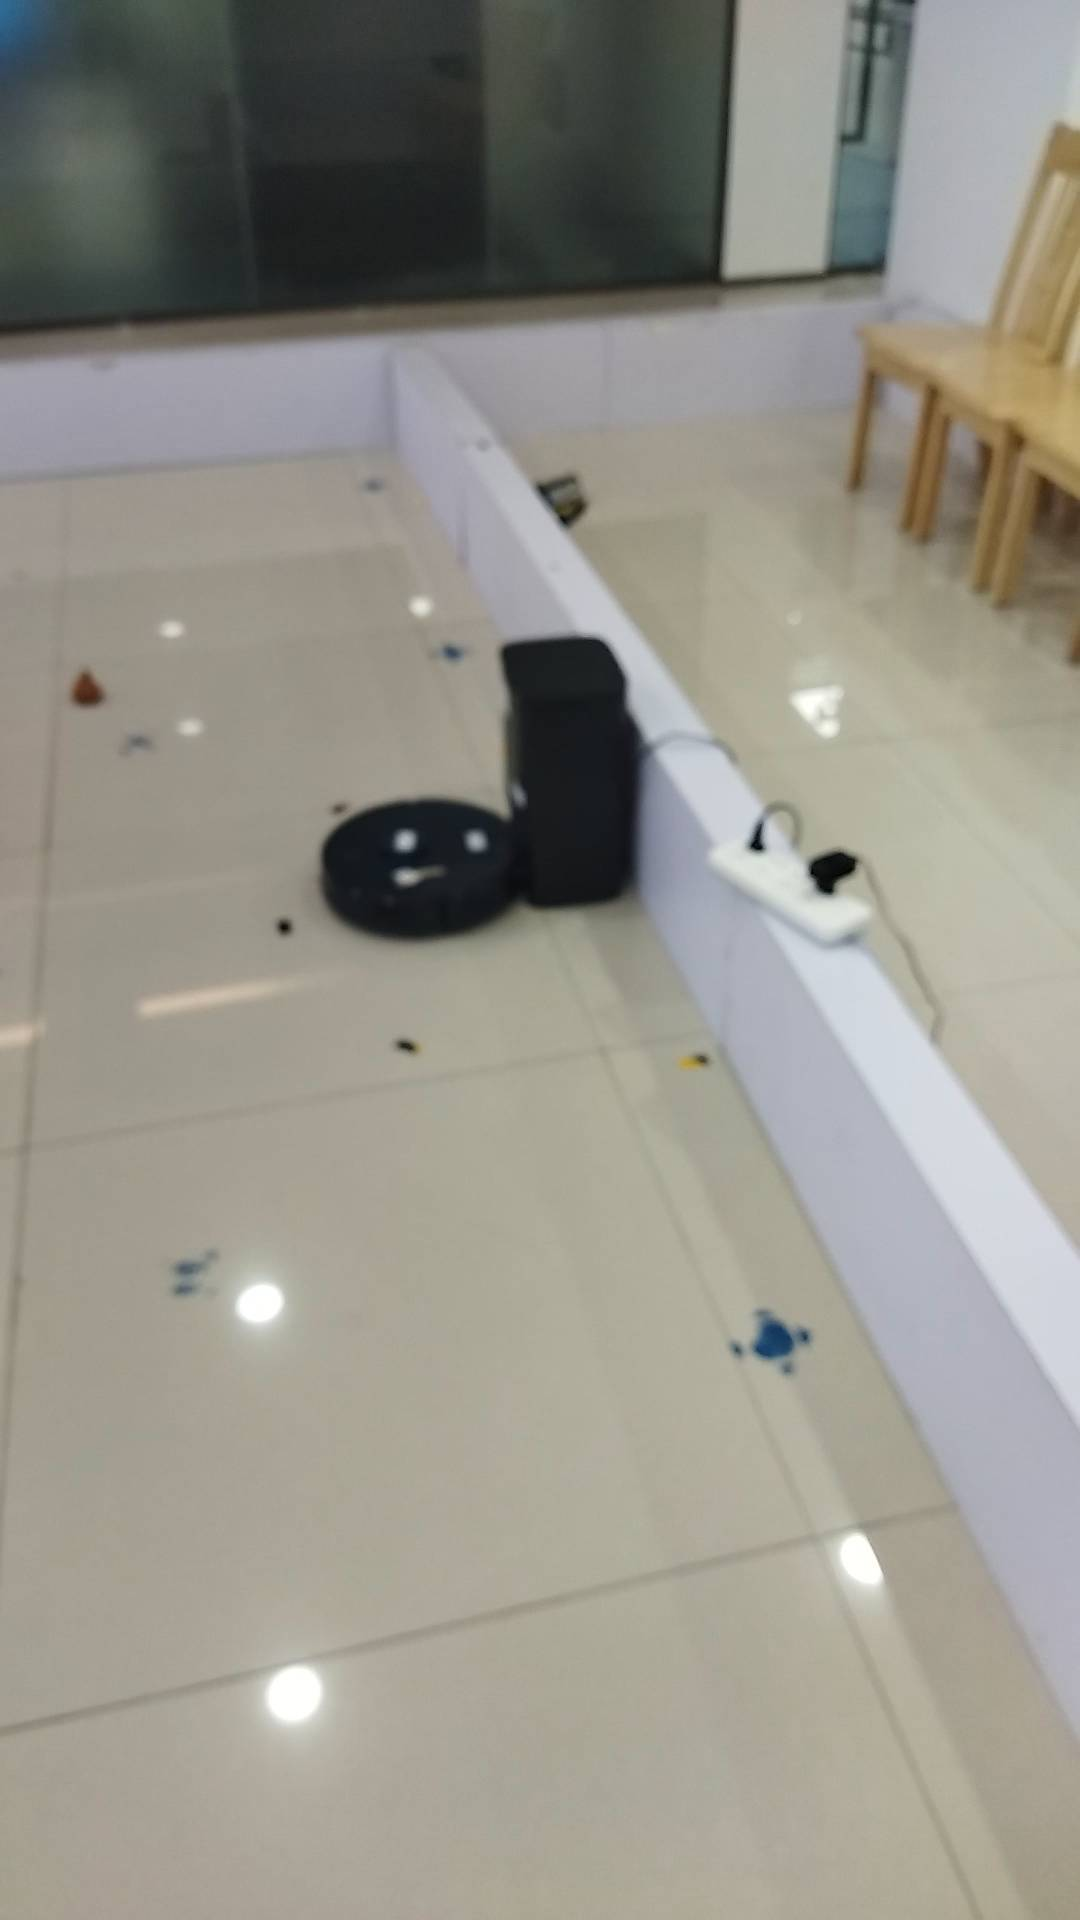dust collecting barrel: (495, 637, 626, 913)
